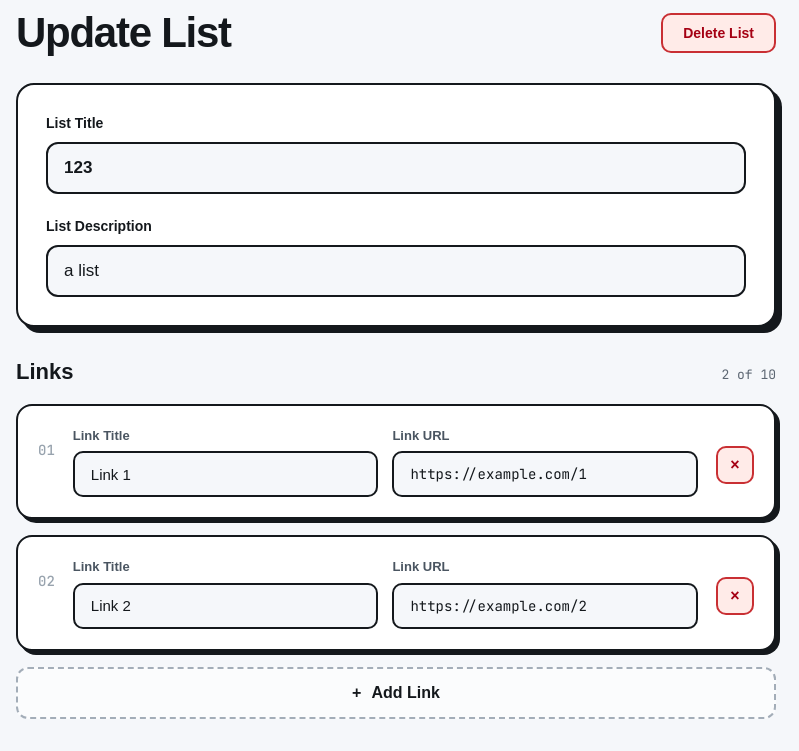
EditListPage › adds validation messages
Expected: the heading "Update List" is shown, [16,12,231,55]
Clear the field with test id "list-title-input": (396,168) [46,142,746,194]
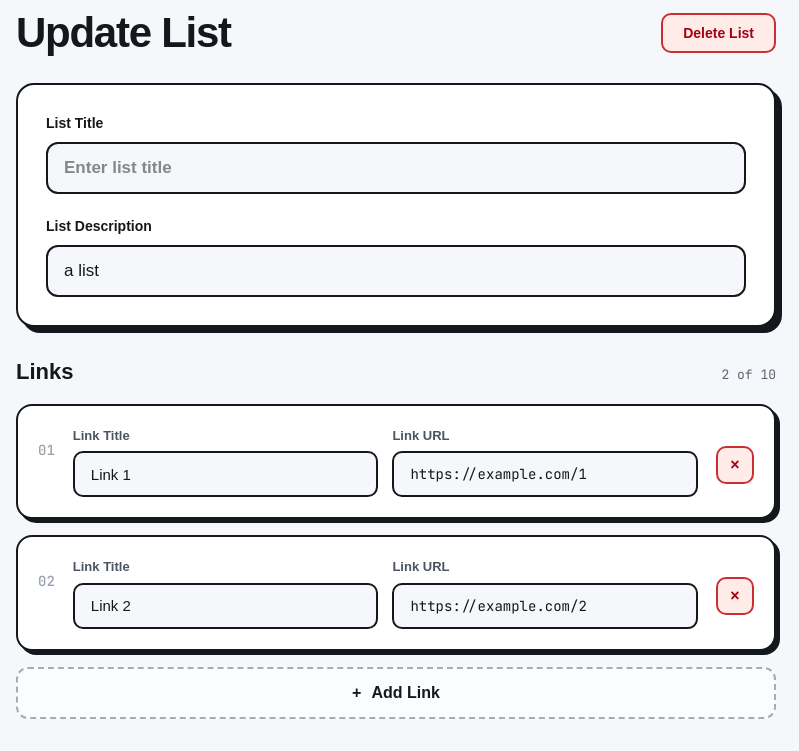
Simulate unfocusing the input field to trigger validation
Leave the field with test id "list-title-input", box [46,142,746,194]
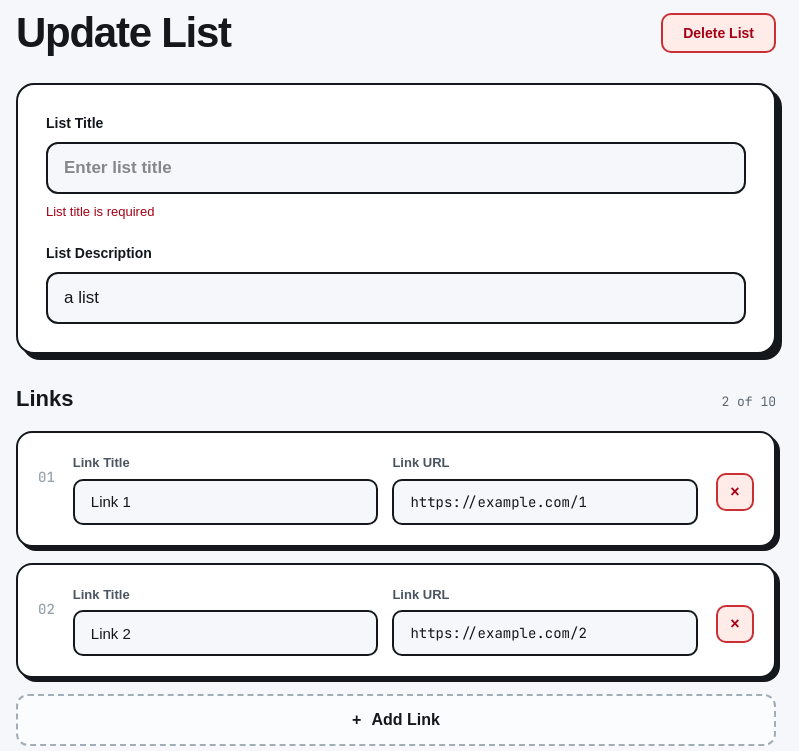
Expected: the text "List title is required" is shown, [46,204,154,219]
